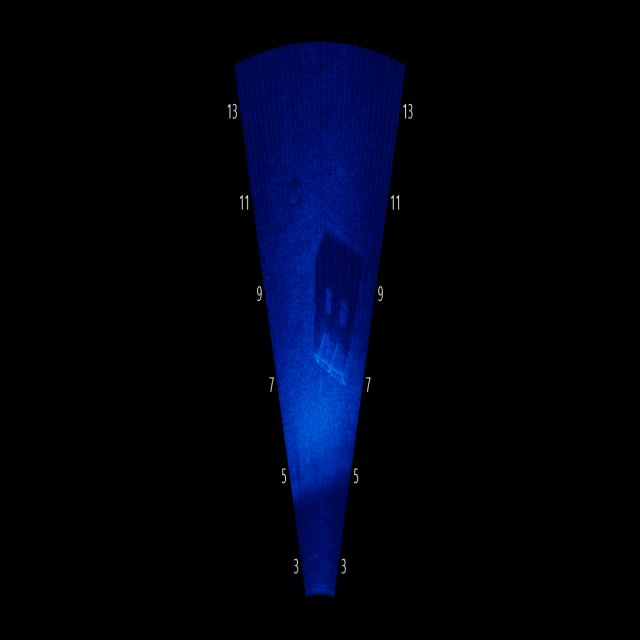square: (298, 288, 364, 402)
